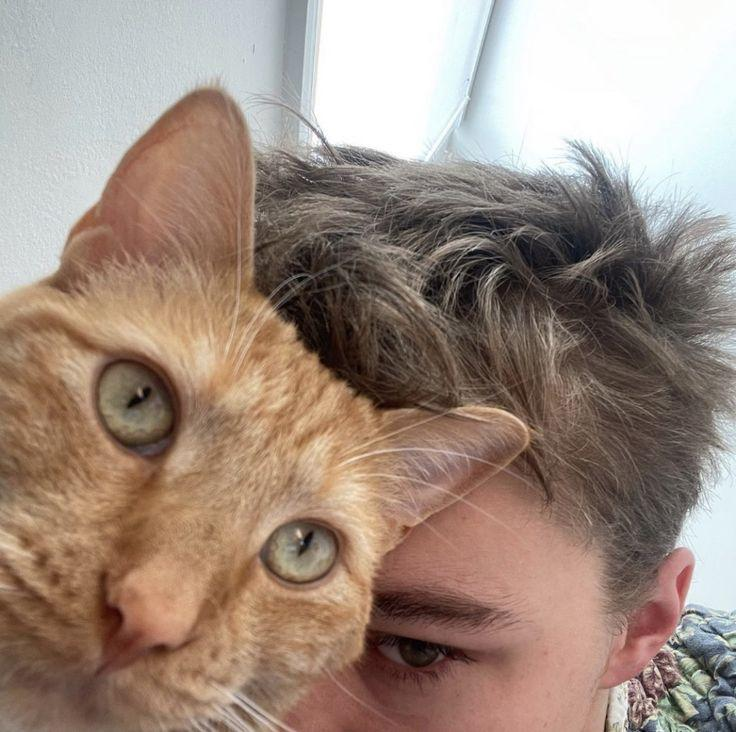kedo: (0, 87, 529, 732)
